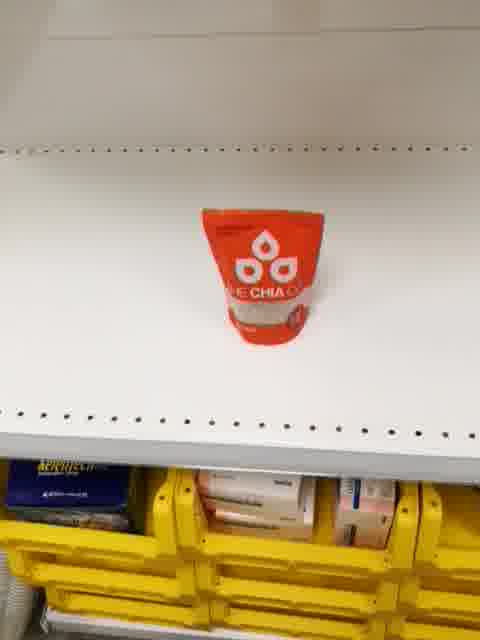whitechia: (196, 204, 327, 349)
